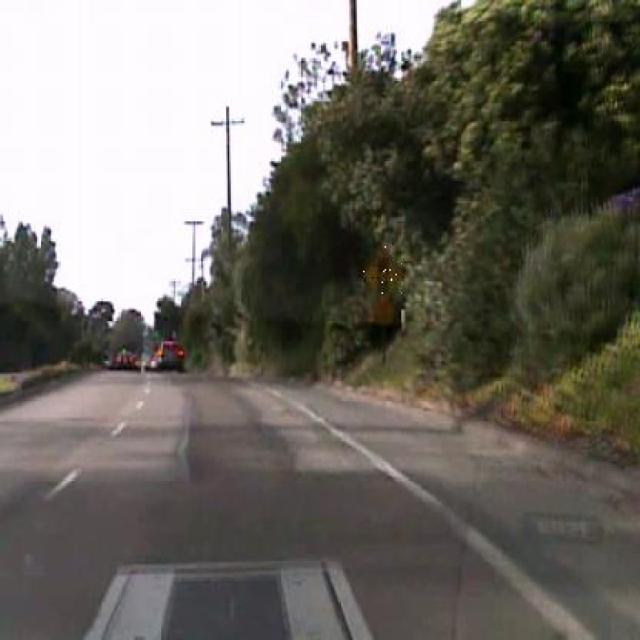signalAhead: (363, 243, 404, 304)
